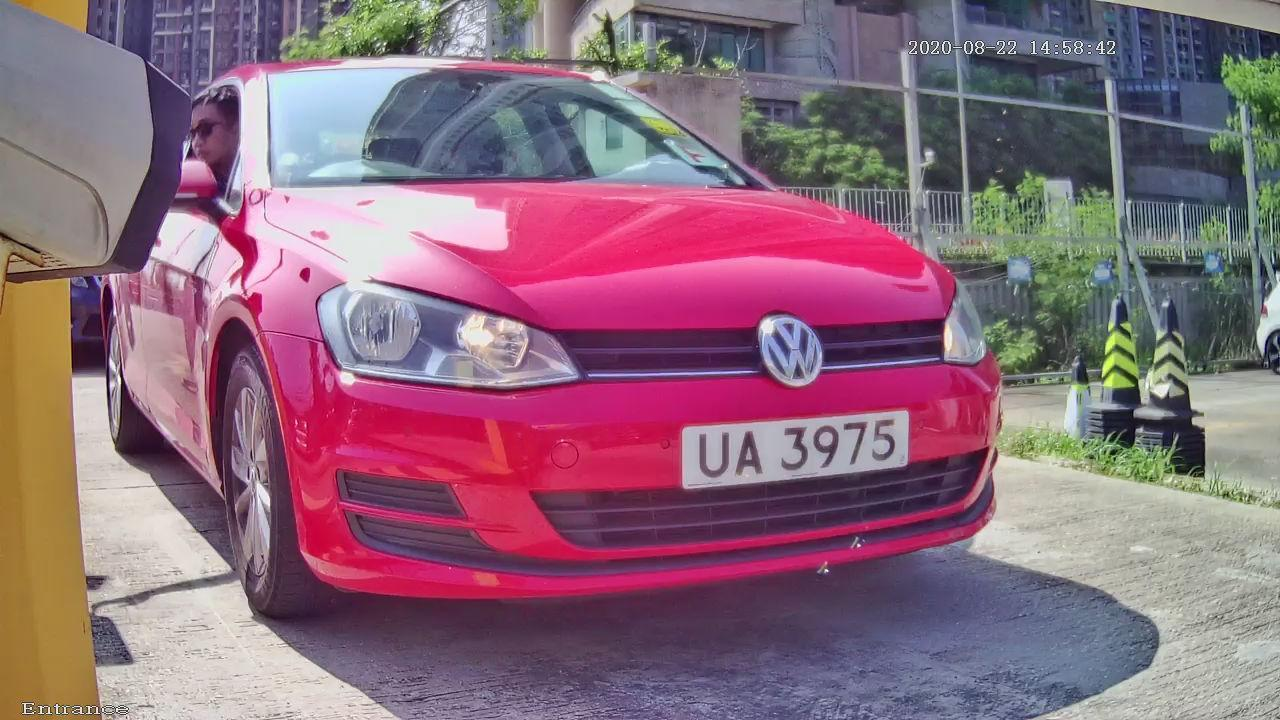Car: (69, 17, 1103, 669)
License Plate: (634, 386, 966, 529)
